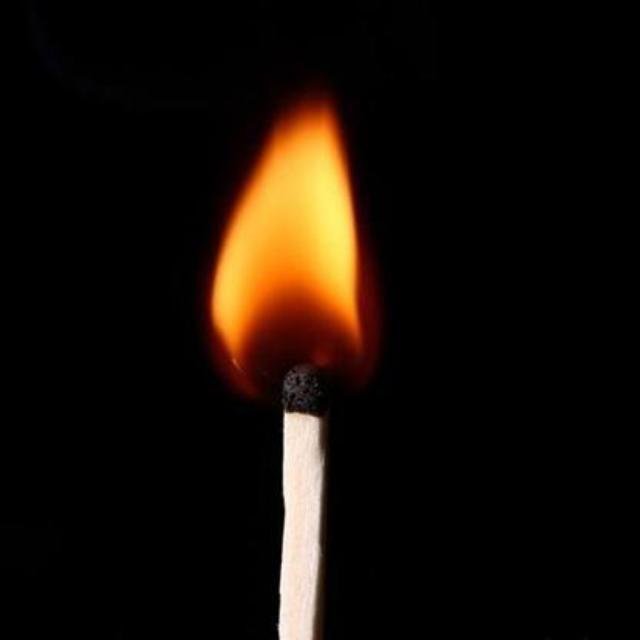Fire: (214, 100, 368, 398)
